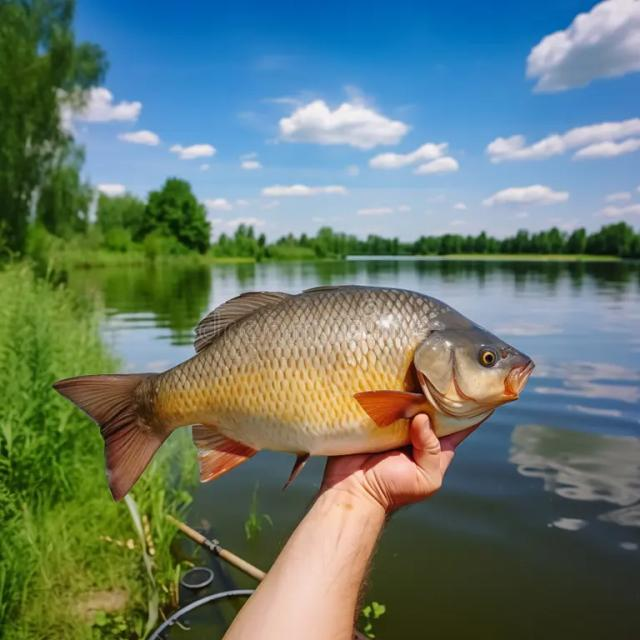Common carp: (55, 286, 537, 506)
